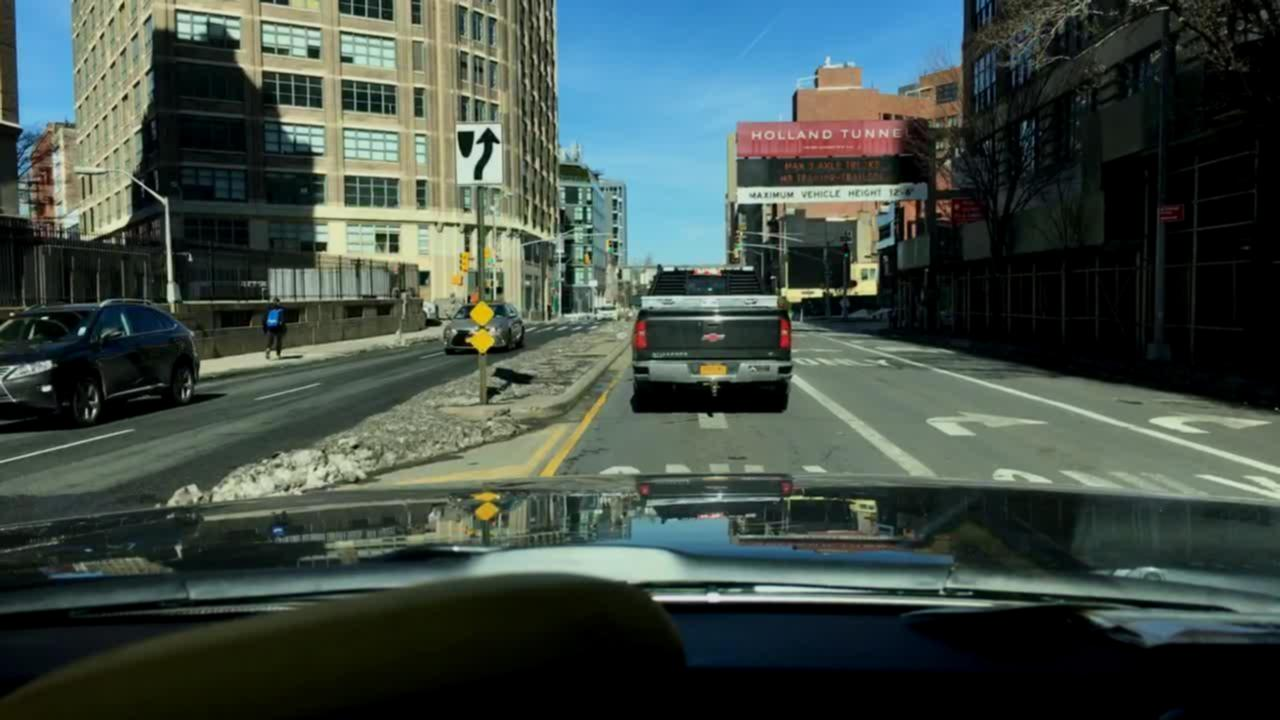chevrolet: (697, 326, 735, 345)
